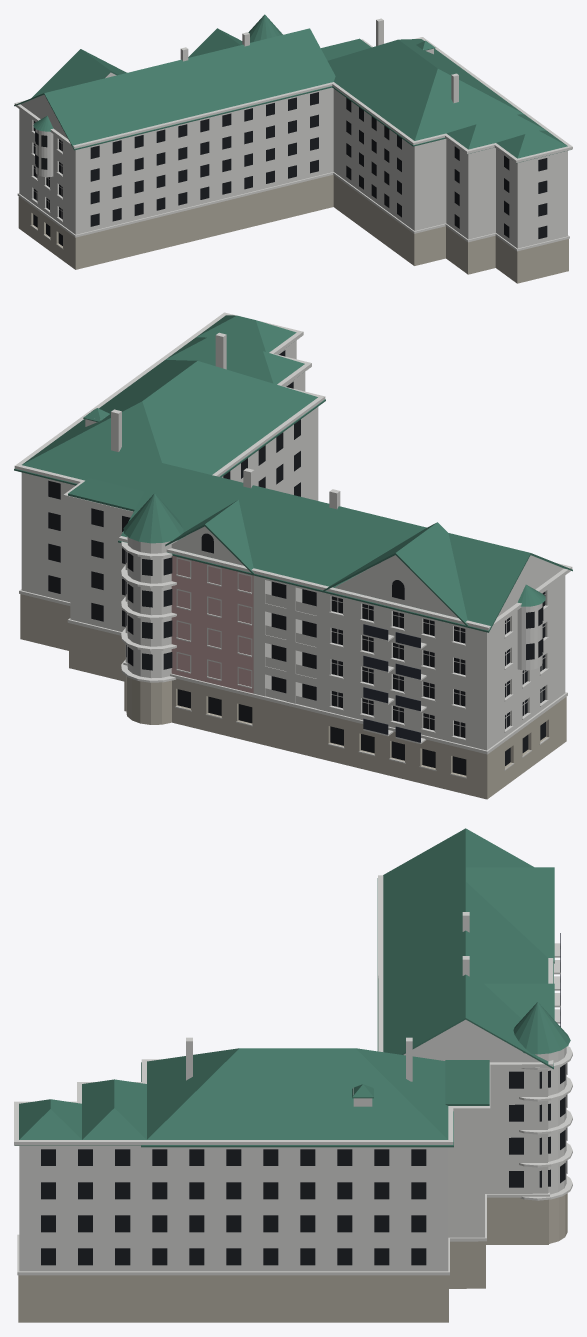
The model's file is SM_Pozemskogo_10.glb.
3 views of the same model, one above another, from view 1: azimuth 30°, elevation 25°; view 2: azimuth 150°, elevation 25°; view 3: azimuth 270°, elevation 25° (orthographic). The views are drawn at different scales.
Visible parts, largest first — view 1: SM_Pozemskogo_10; view 2: SM_Pozemskogo_10; view 3: SM_Pozemskogo_10.
Part boxes in pixels (x1,y1,x2,y2): SM_Pozemskogo_10: (14, 14, 572, 283); SM_Pozemskogo_10: (14, 312, 572, 799); SM_Pozemskogo_10: (14, 828, 572, 1322).
Size of the model in its own units: 55.99 by 23.25 by 48.33.
